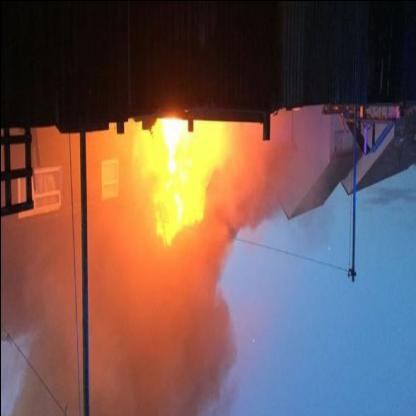Fire: (148, 112, 219, 248)
Smoke: (50, 259, 232, 415), (231, 96, 287, 218)
